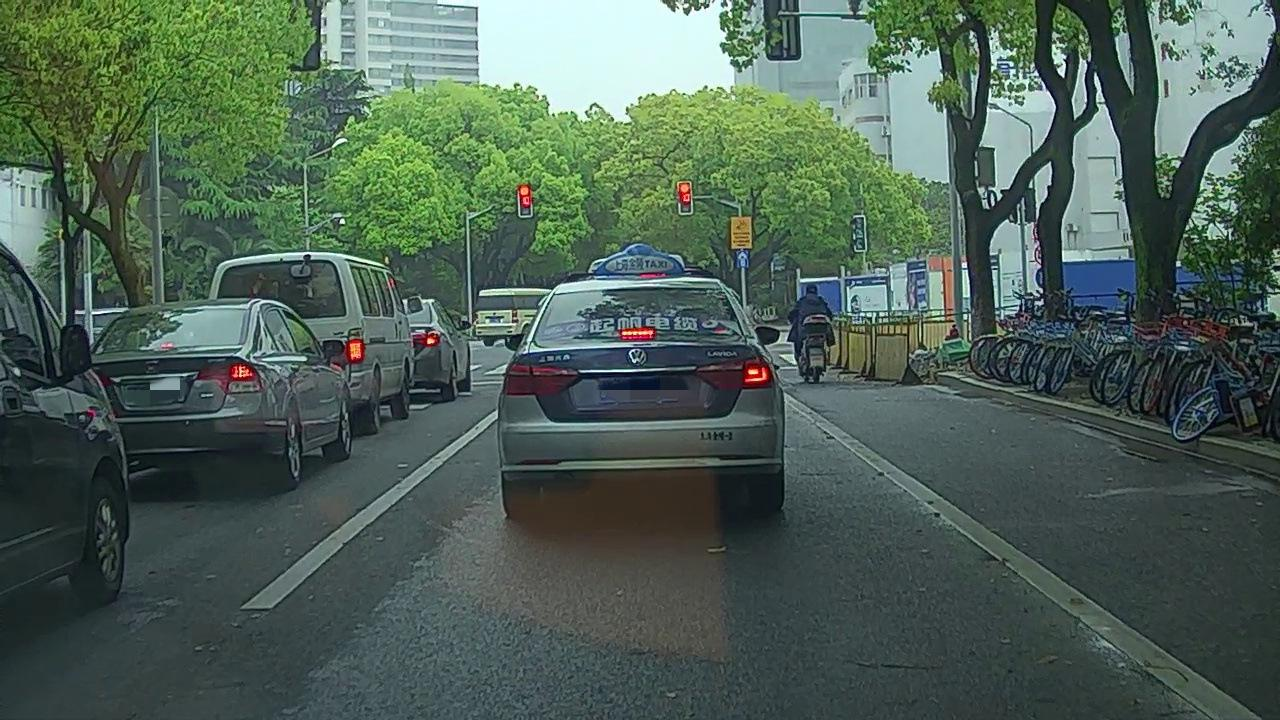traffic_light: (516, 184, 532, 215), (677, 182, 692, 214)
